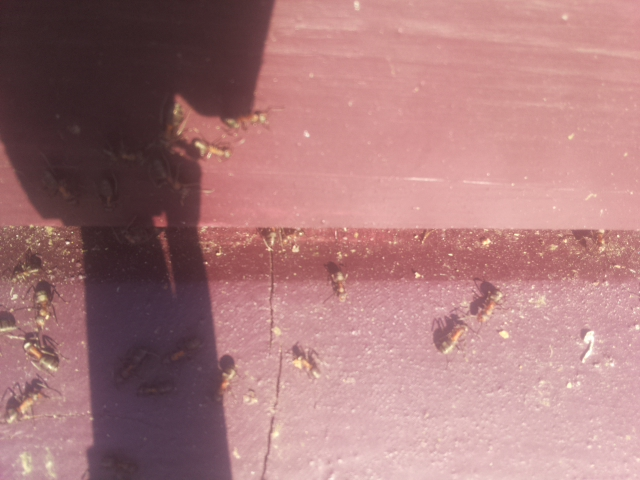ant: (0, 378, 49, 428), (35, 157, 81, 209), (168, 131, 235, 166), (141, 148, 189, 196), (17, 332, 65, 376), (319, 253, 356, 309), (282, 343, 327, 383), (29, 278, 62, 329), (217, 104, 275, 133), (92, 450, 144, 480), (163, 337, 205, 369), (476, 282, 504, 329), (214, 352, 240, 401), (116, 347, 149, 383), (10, 250, 46, 283), (439, 322, 469, 359), (95, 168, 121, 210), (576, 324, 601, 366)
